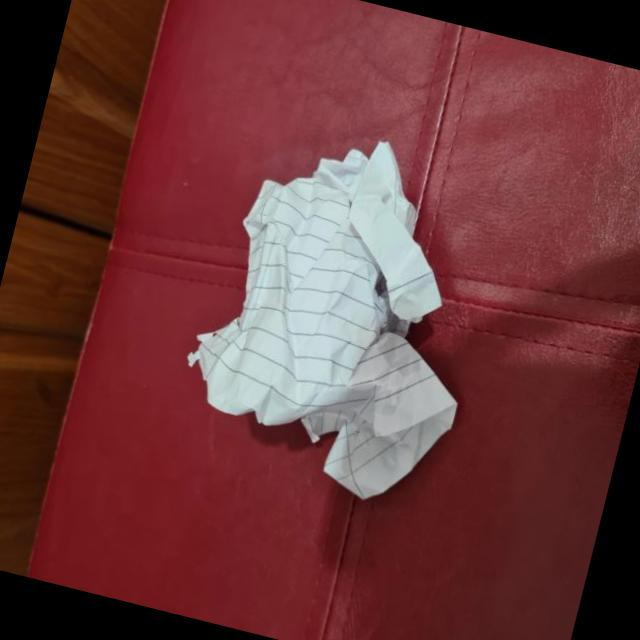cardboard paper: (187, 140, 454, 496)
